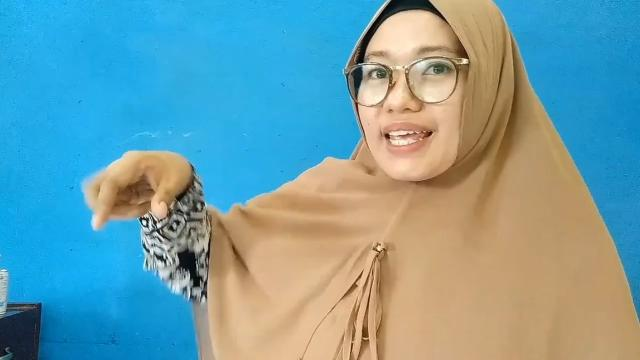Q: (80, 144, 188, 236)
